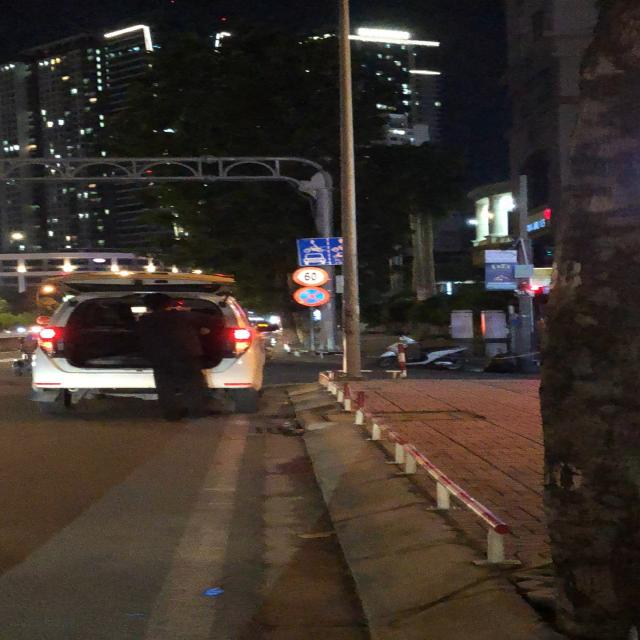Bien bao cam dung xe va do xe: (289, 286, 334, 308)
Bien bao toc do toi da cho phep: (284, 265, 332, 288)
